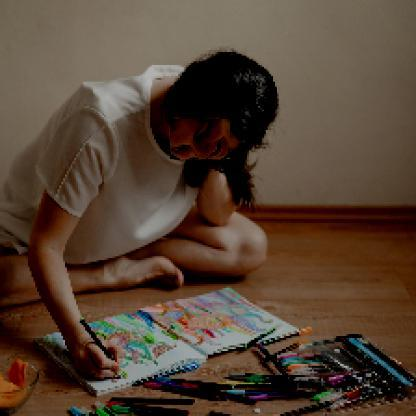child: (171, 120, 232, 161)
